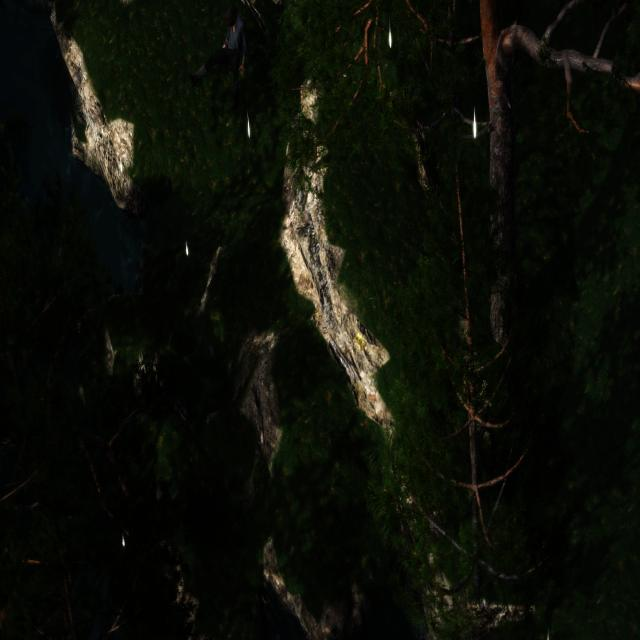Human: (192, 10, 251, 110)
